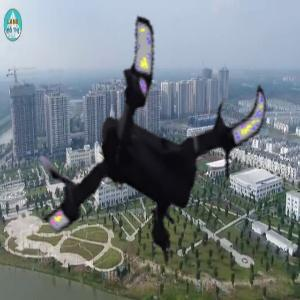drone: (3, 16, 285, 298)
